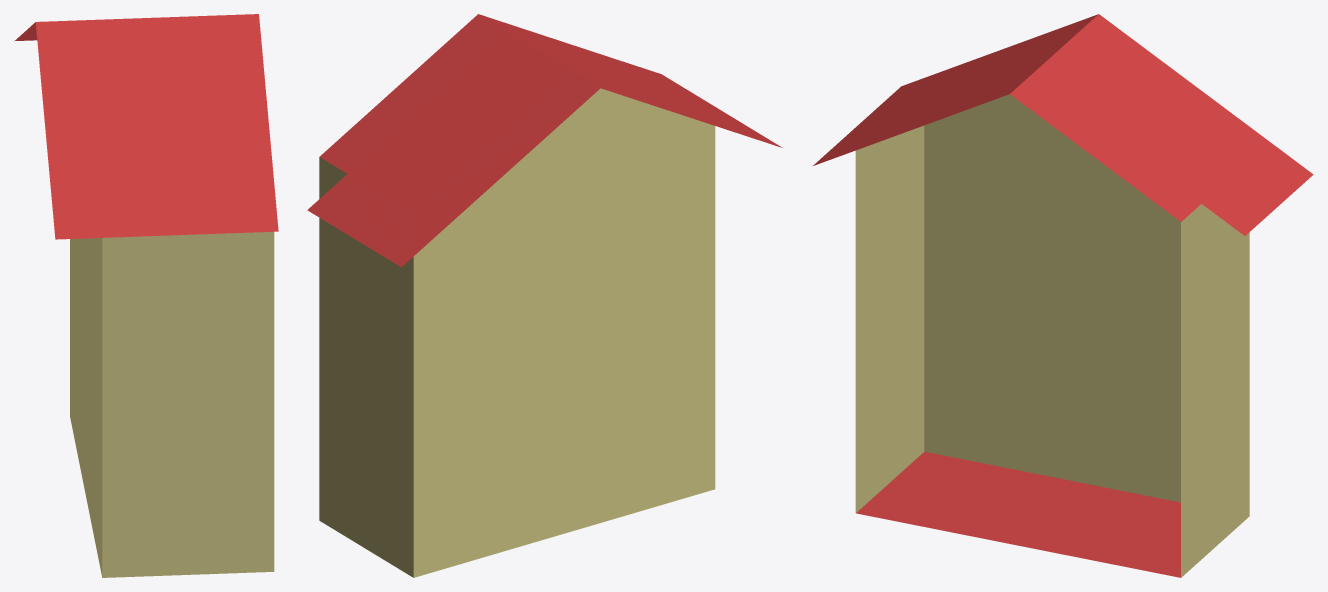
3 renders of one model, left to right at view 1: azimuth 30°, elevation 25°; view 2: azimuth 150°, elevation 25°; view 3: azimuth 270°, elevation 25°, orthographic. The views are drawn at different scales.
Bounding box in the file's own units: 5.66 × 7.82 × 7.74.
